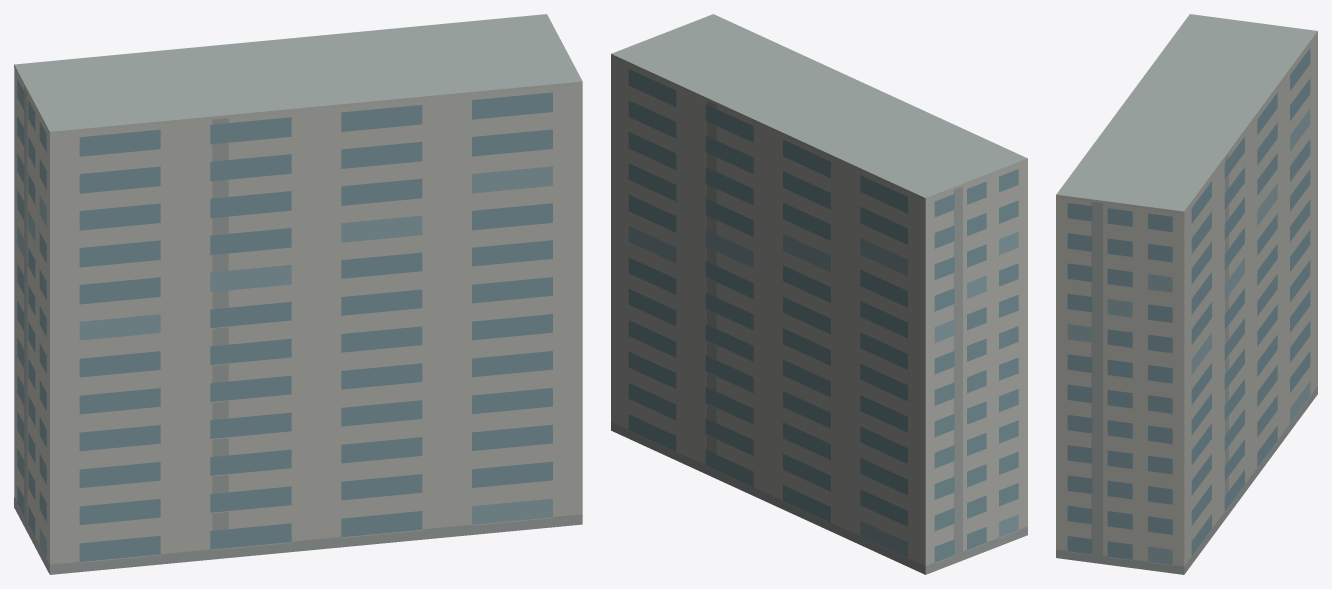
File: residential-74de933e-282f-4441-be17-f3e282fa201a.glb
3 renders of one model, left to right at view 1: azimuth 30°, elevation 25°; view 2: azimuth 150°, elevation 25°; view 3: azimuth 270°, elevation 25°, orthographic. The views are drawn at different scales.
Parts seen in each view (by area): view 1: residential-74de933e-282f-4441-be17-f3e282fa201a.tmp; view 2: residential-74de933e-282f-4441-be17-f3e282fa201a.tmp; view 3: residential-74de933e-282f-4441-be17-f3e282fa201a.tmp.
Boxes of the visible parts, x1,y1,x2,y2 form: residential-74de933e-282f-4441-be17-f3e282fa201a.tmp: (14,14,582,574); residential-74de933e-282f-4441-be17-f3e282fa201a.tmp: (611,14,1027,574); residential-74de933e-282f-4441-be17-f3e282fa201a.tmp: (1056,14,1317,574).
Size of the model in its own units: 40.82 by 35 by 22.85.
